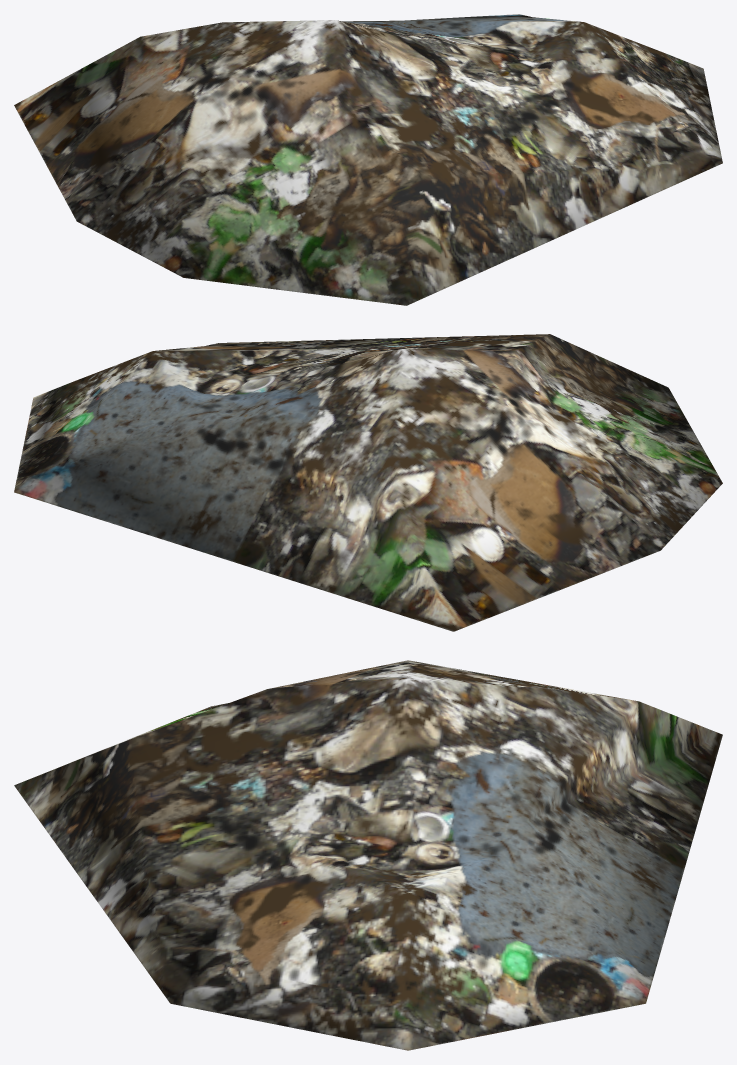
File: TrashPile03.fbx
3 renders of one model, top to bottom at view 1: azimuth 30°, elevation 25°; view 2: azimuth 150°, elevation 25°; view 3: azimuth 270°, elevation 25°, orthographic. The views are drawn at different scales.
Visible parts, largest first — view 1: TrashPile03; view 2: TrashPile03; view 3: TrashPile03.
Boxes of the visible parts, x1=… form: TrashPile03: x1=14, y1=14, x2=722, y2=305; TrashPile03: x1=14, y1=334, x2=722, y2=631; TrashPile03: x1=14, y1=660, x2=722, y2=1050.
Bounding box in the file's own units: 149 × 31.35 × 125.
